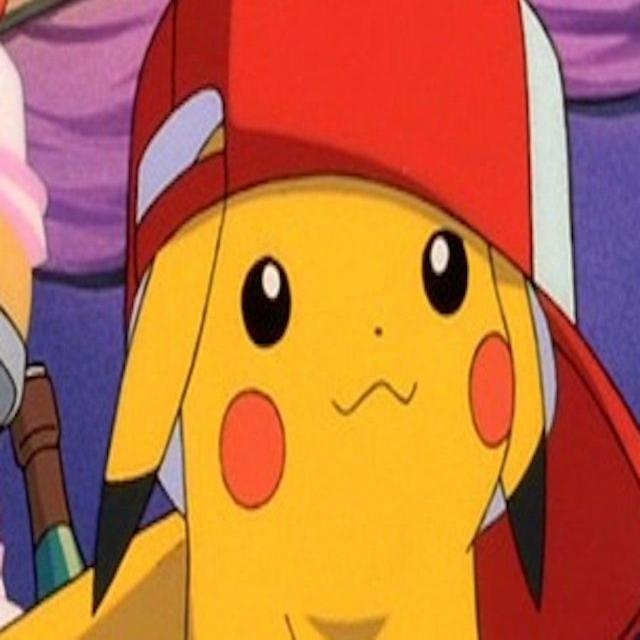pikachu: (92, 173, 548, 640)
